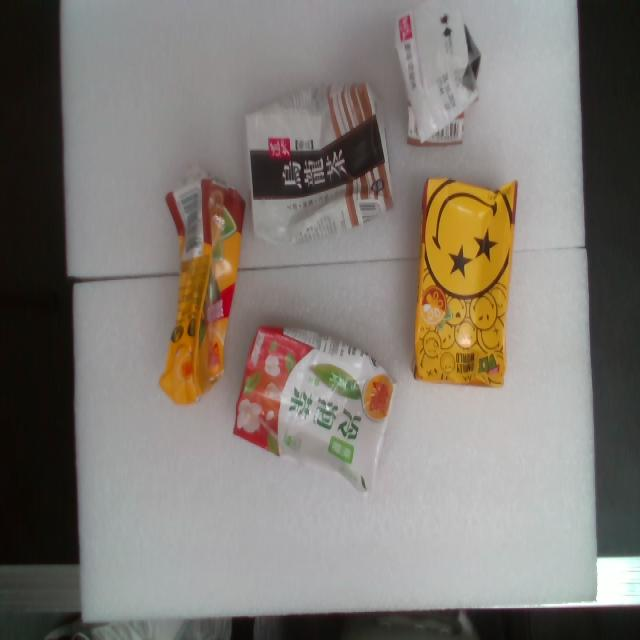juicebox: (204, 301, 427, 506), (220, 61, 407, 253), (398, 159, 529, 402), (144, 172, 255, 418)
